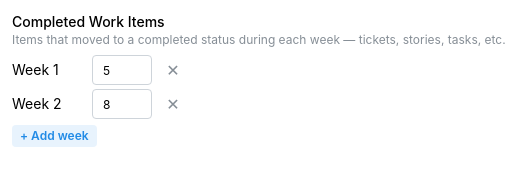
Test case: WeeklyThroughputInput › removing weeks › clicking remove deletes that week's input
Click the button named "remove week 2".
click(173, 104)  # box [162,93,184,115]
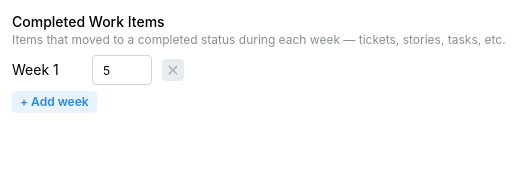
expect the field labelled "Week 1" is shown: met, box [92,55,152,85]
expect the text labelled "Week 2" is gone: met
